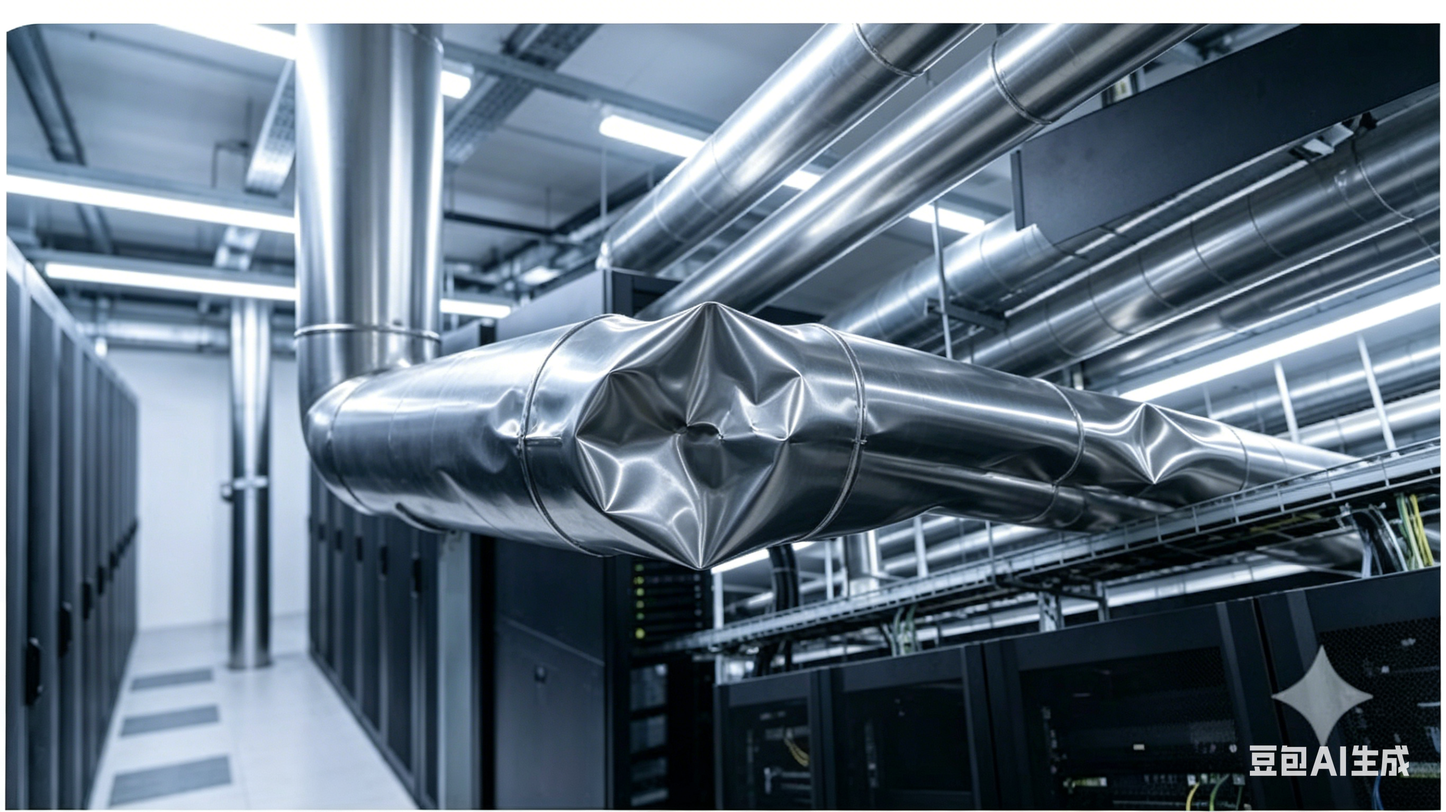Leakage: (564, 298, 833, 588), (1085, 392, 1245, 506), (448, 365, 561, 493)
